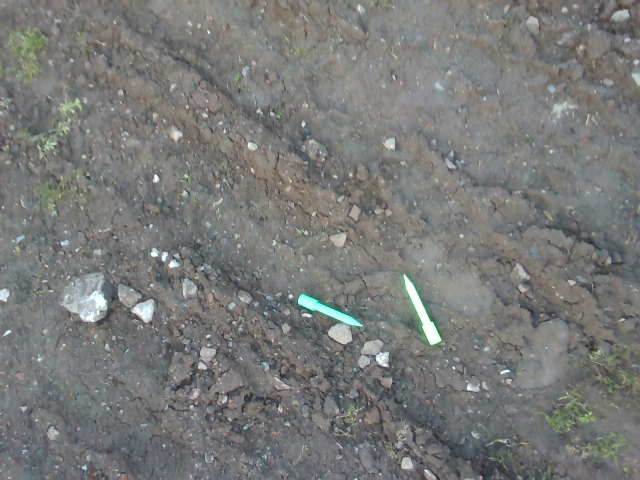Probe: (399, 269, 445, 350), (295, 289, 365, 334)
